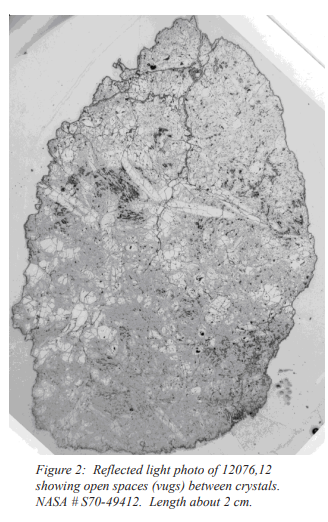Basalt: (9, 15, 325, 455)
